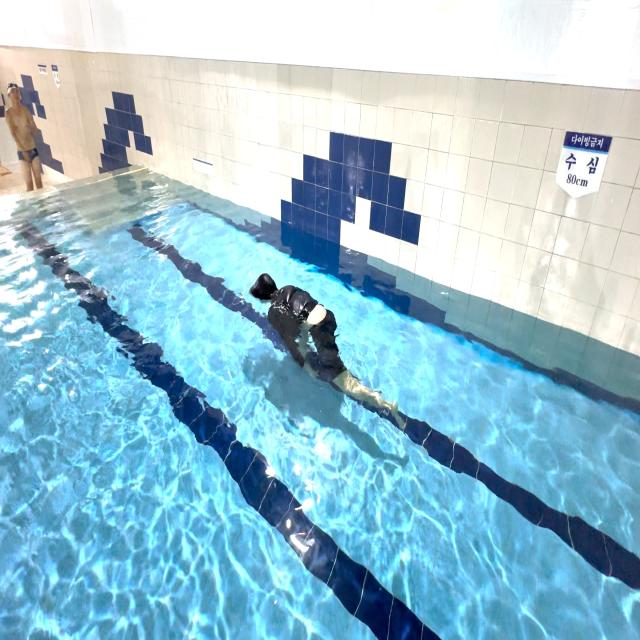Drowning: (243, 254, 416, 445)
